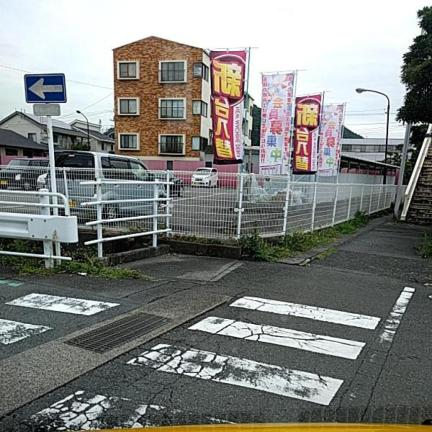Road: (0, 223, 431, 430)
